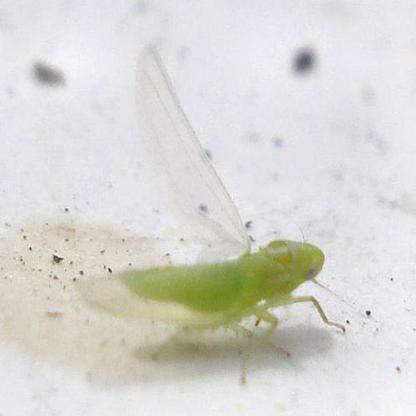green-leafhopper: (81, 239, 333, 364)
